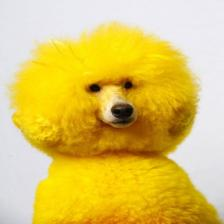yellow: (10, 22, 222, 224)
